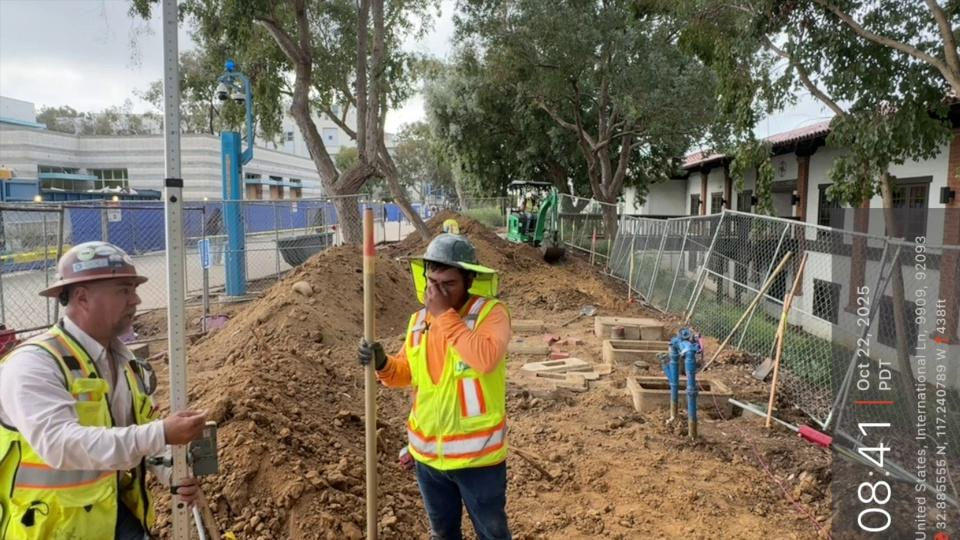Exacavator: (503, 178, 566, 262)
